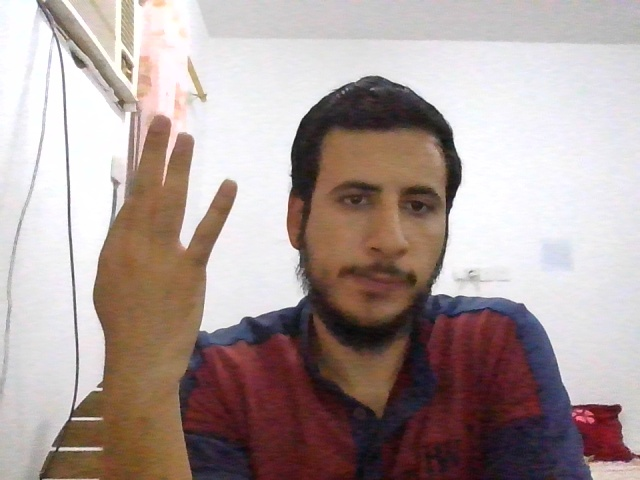Three: (92, 115, 237, 373)
